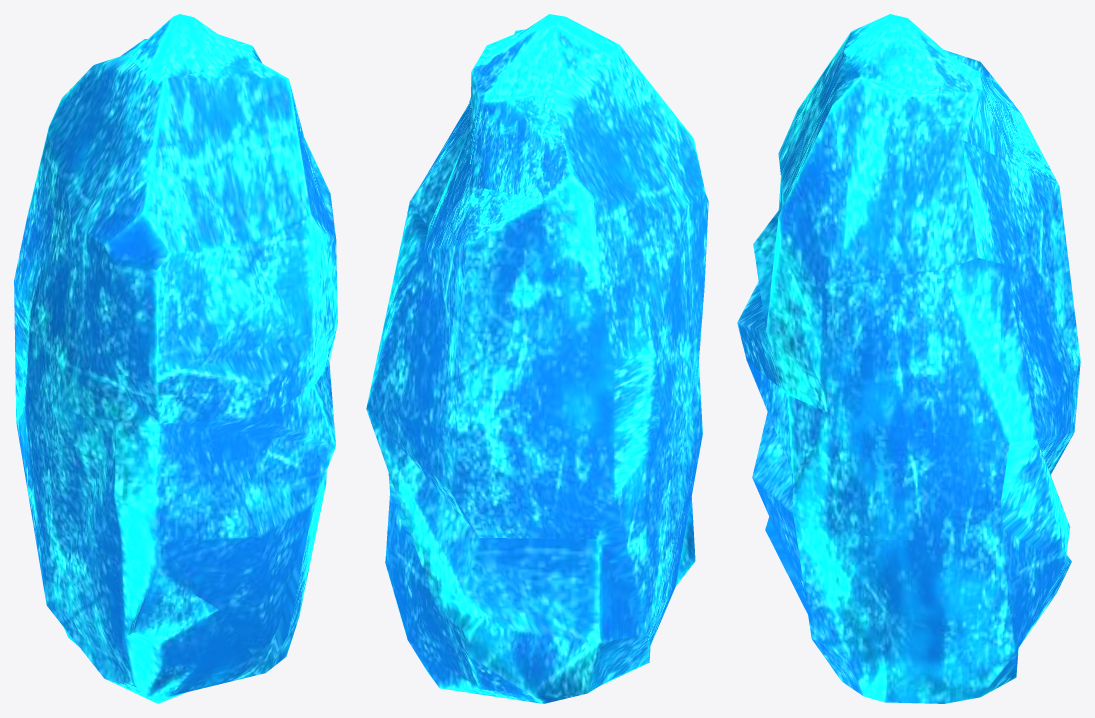
Rendered from item.currency.shard.glb.
3 renders of one model, left to right at view 1: azimuth 30°, elevation 25°; view 2: azimuth 150°, elevation 25°; view 3: azimuth 270°, elevation 25°, orthographic.
Parts seen in each view (by area): view 1: pCube1; view 2: pCube1; view 3: pCube1.
Boxes of the visible parts, box(x1,y1,x2,y2) form: pCube1: box(14, 14, 337, 703); pCube1: box(366, 14, 708, 703); pCube1: box(737, 14, 1080, 703).
Bounding box in the file's own units: 0.507 × 1.2 × 0.5626.
Materials: 1 (1 with a texture image).
